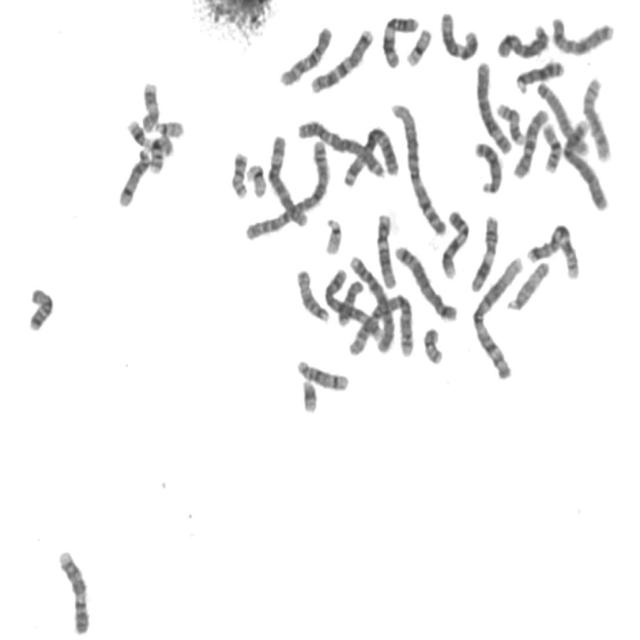A1: (388, 97, 449, 238), (469, 251, 526, 382)
A2: (242, 136, 333, 242), (345, 291, 416, 358)
A3: (295, 116, 390, 180), (340, 123, 400, 189)
B4: (347, 250, 397, 356), (561, 114, 611, 212)
B5: (392, 240, 459, 323), (323, 267, 380, 339)
C10: (277, 22, 335, 88), (510, 104, 551, 180)
C11: (468, 210, 501, 294), (380, 11, 420, 70)
C12: (437, 7, 481, 62), (373, 209, 399, 291)
C6: (266, 130, 311, 230), (473, 56, 515, 156)
C7: (307, 24, 375, 95), (524, 220, 582, 282)
C8: (534, 78, 591, 158), (580, 73, 614, 164)
C9: (54, 545, 92, 636), (438, 206, 471, 281)
D13: (513, 56, 566, 96), (471, 137, 504, 195)
D14: (115, 145, 153, 209), (294, 355, 351, 392)
D15: (504, 257, 552, 312), (294, 265, 332, 325)
E16: (539, 119, 565, 174), (147, 131, 174, 175)
E17: (494, 100, 526, 146), (138, 77, 161, 134)
E18: (336, 276, 366, 328), (25, 283, 56, 333)
F19: (403, 23, 434, 68), (244, 159, 269, 199)
F20: (228, 147, 251, 200), (420, 323, 445, 366)
G21: (124, 116, 150, 150), (298, 375, 320, 415)
G22: (321, 213, 345, 257), (152, 115, 185, 139)
X: (548, 12, 617, 57), (494, 20, 551, 60)
